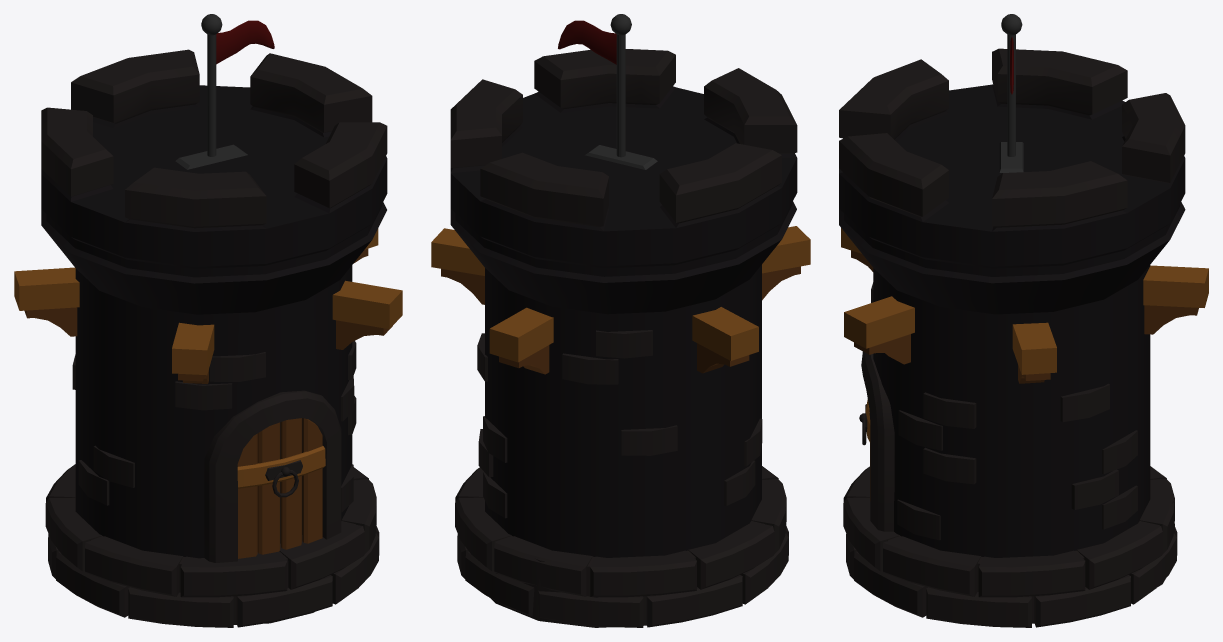
File: Tower.fbx
3 views of the same model, side by side, from view 1: azimuth 30°, elevation 25°; view 2: azimuth 150°, elevation 25°; view 3: azimuth 270°, elevation 25° (orthographic).
Parts seen in each view (by area): view 1: Tower, Tower_Door; view 2: Tower; view 3: Tower.
Part boxes in pixels (bbox=[...]): Tower: bbox=[14, 14, 402, 627]; Tower_Door: bbox=[237, 418, 325, 558]; Tower: bbox=[431, 14, 810, 627]; Tower: bbox=[839, 14, 1208, 627].
Bounding box in the file's own units: 944 × 1460 × 898.
